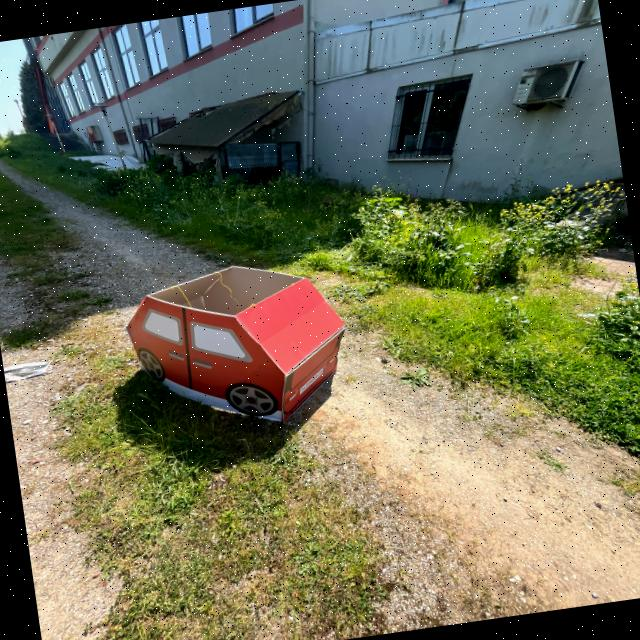red_car: (96, 237, 384, 466)
